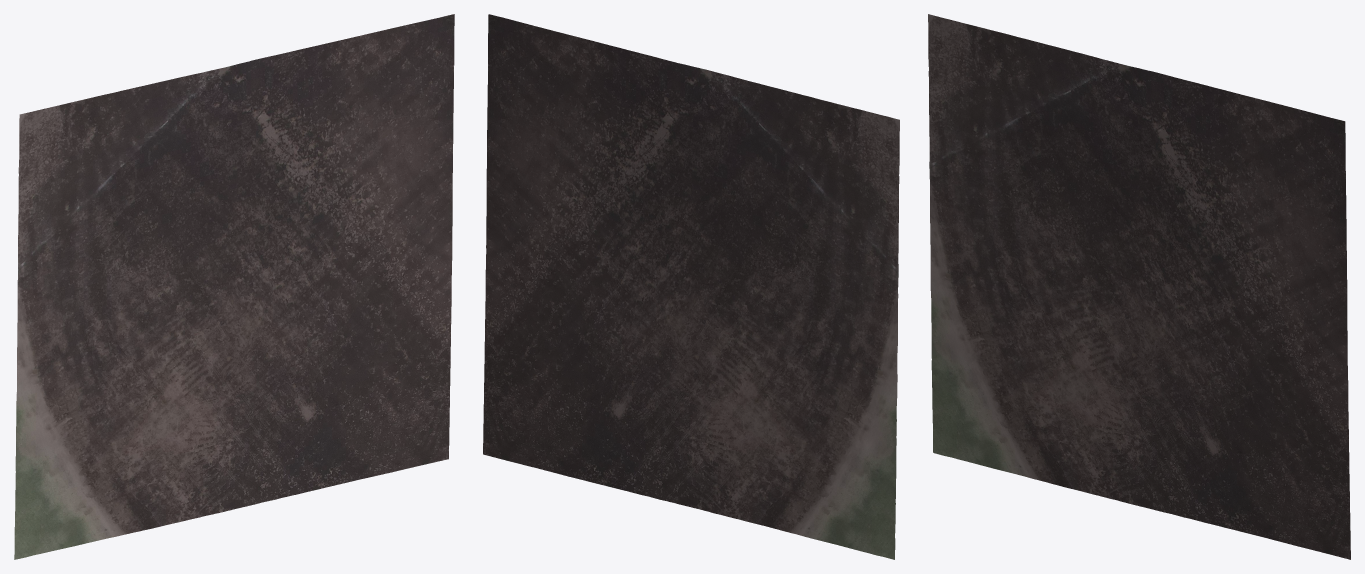
Rendered from Tile_+015_+008.fbx.
3 views of the same model, side by side, from view 1: azimuth 30°, elevation 25°; view 2: azimuth 150°, elevation 25°; view 3: azimuth 330°, elevation 25° (orthographic). The views are drawn at different scales.
Visible parts, largest first — view 1: DefaultName; view 2: DefaultName; view 3: DefaultName.
Boxes of the visible parts, x1,y1,x2,y2 form: DefaultName: (14, 14, 454, 559); DefaultName: (483, 14, 899, 559); DefaultName: (928, 14, 1350, 559).
Size of the model in its own units: 22.54 by 22.54 by 0.9965.
